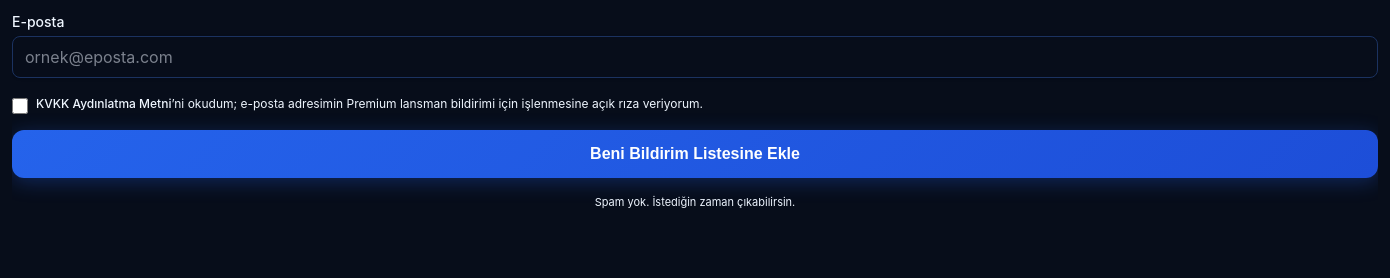
Test: WaitlistForm › 429 rate-limit: kullanici-dostu Turkce hata gosterir
Type "user@example.com" into the field labelled "E-posta" at (695, 57), box [12,36,1378,78]
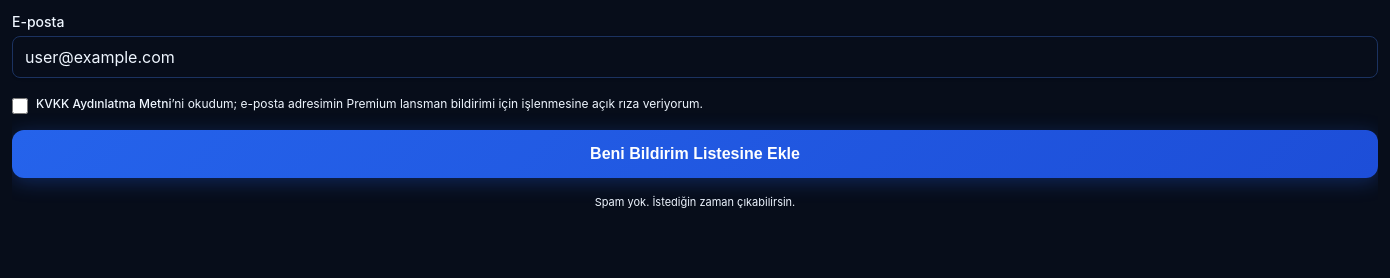
Click the checkbox labelled "KVKK" at (20, 106), box [12,98,28,114]
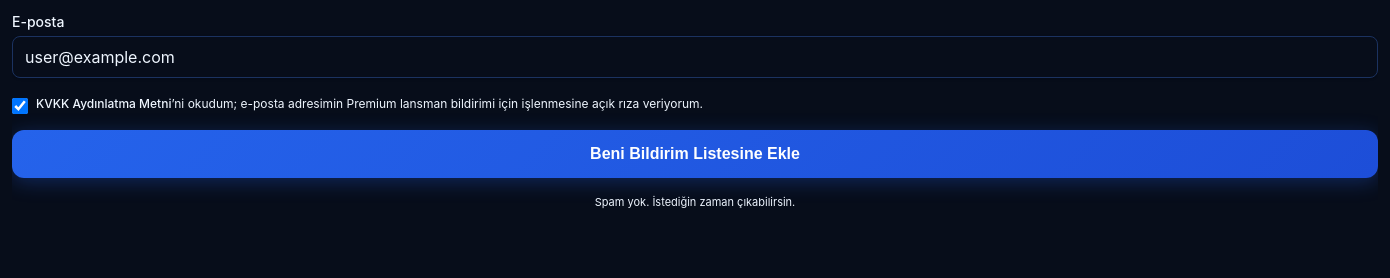
Click the button "Beni Bildirim Listesine Ekle" at (695, 154), box [12,130,1378,178]
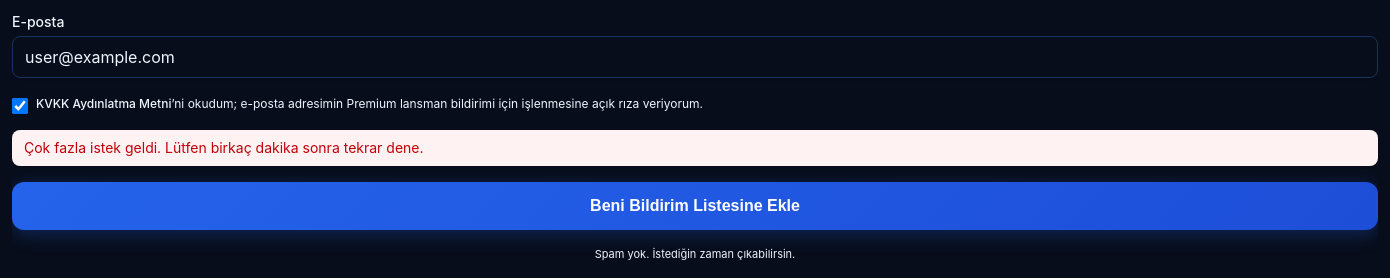
Expected: the text "Çok fazla istek geldi. Lütfen birkaç dakika sonra tekrar dene." is shown, [12,130,1378,166]
